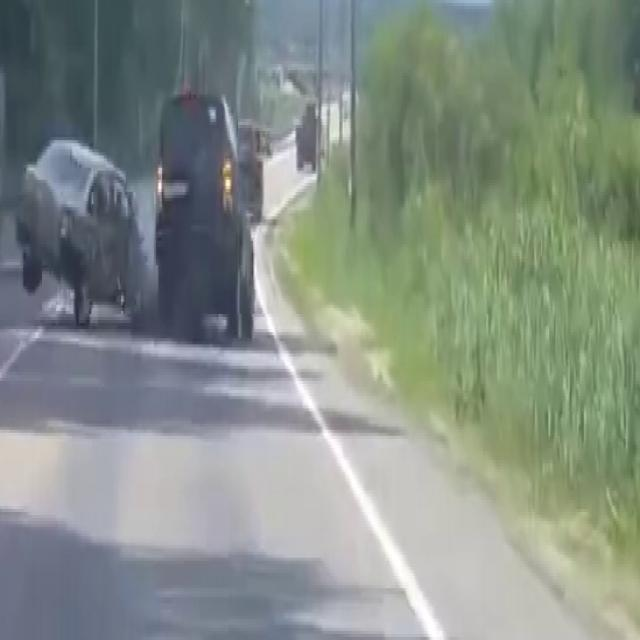accident: (24, 58, 273, 342)
